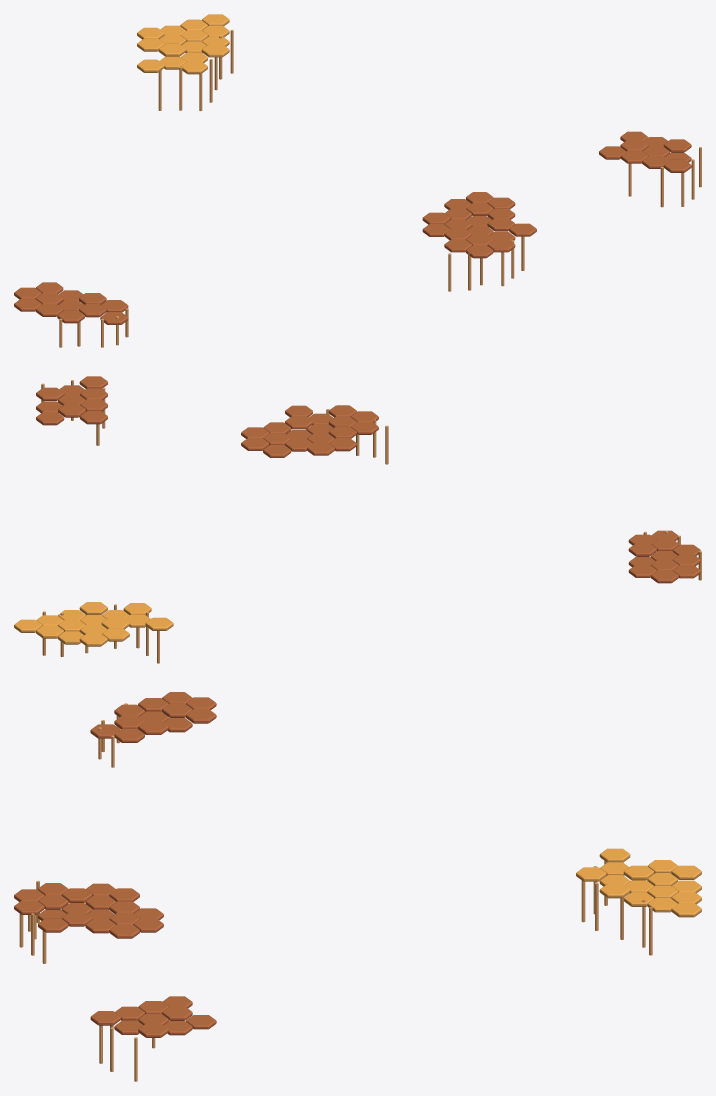
Rendered from trees.fbx.
3 renders of one model, top to bottom at view 1: azimuth 30°, elevation 25°; view 2: azimuth 150°, elevation 25°; view 3: azimuth 270°, elevation 25°, orthographic. The views are drawn at different scales.
Size of the model in its own units: 4267 by 272 by 3464.
